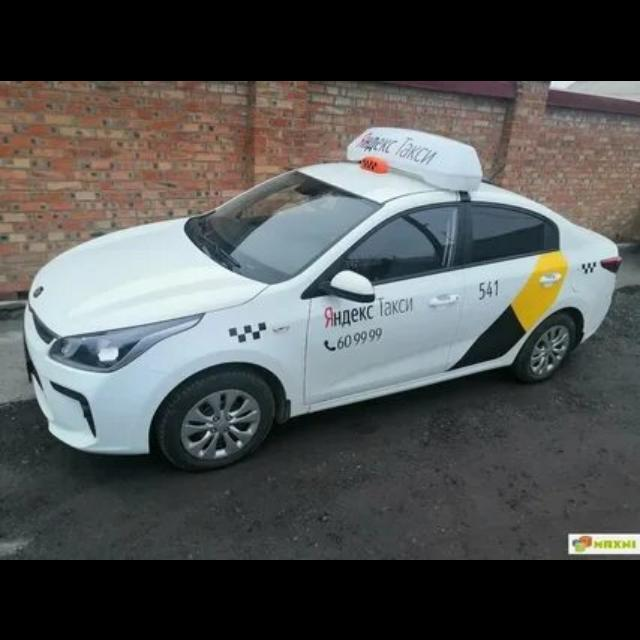taxi: (22, 125, 623, 472)
